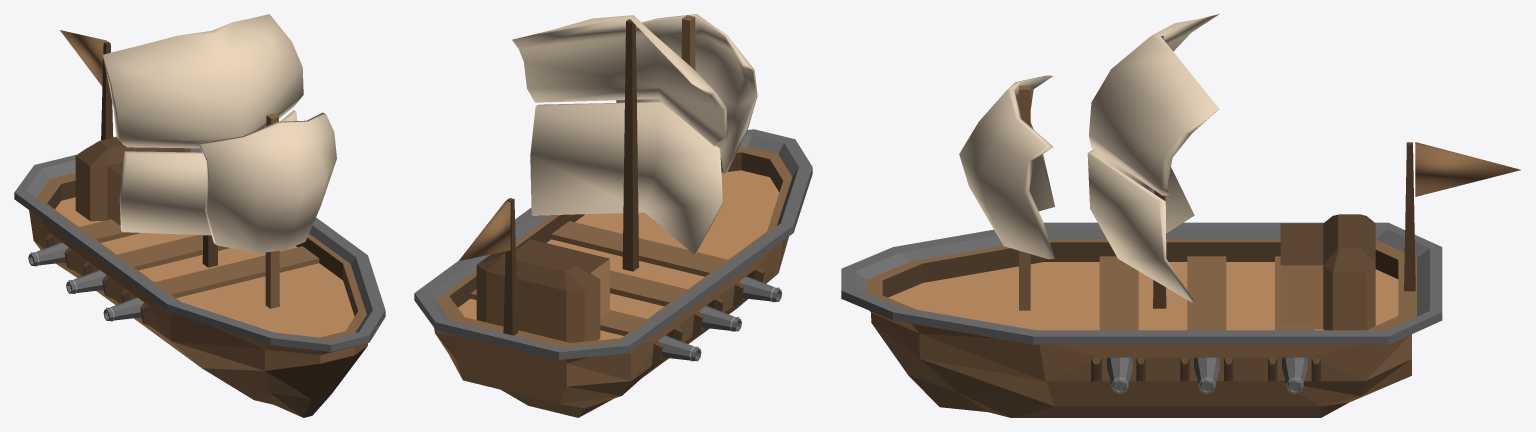
The model's file is Barco.fbx.
3 views of the same model, side by side, from view 1: azimuth 30°, elevation 25°; view 2: azimuth 150°, elevation 25°; view 3: azimuth 270°, elevation 25° (orthographic). The views are drawn at different scales.
Parts seen in each view (by area): view 1: Cañonero, Sails_1, Hull_1, Crew_1, cannon_2, cannon_1; view 2: Cañonero, Hull_1, Crew_1, Sails_1, cannon_2, cannon_1; view 3: Cañonero, Hull_1, Sails_1, Crew_1, cannon_2, cannon_1.
Boxes of the visible parts, x1,y1,x2,y2 form: Cañonero: (29, 14, 367, 417); Sails_1: (198, 112, 336, 308); Hull_1: (14, 148, 385, 351); Crew_1: (75, 137, 190, 225); cannon_2: (103, 288, 151, 326); cannon_1: (28, 233, 75, 270); Cañonero: (434, 15, 792, 417); Hull_1: (414, 129, 812, 359); Crew_1: (476, 239, 609, 319); Sails_1: (616, 14, 757, 173); cannon_2: (732, 266, 782, 306); cannon_1: (651, 326, 701, 365); Cañonero: (866, 14, 1520, 417); Hull_1: (841, 222, 1442, 344); Sails_1: (959, 75, 1054, 310); Crew_1: (1280, 214, 1375, 329); cannon_2: (1091, 357, 1145, 394); cannon_1: (1268, 357, 1320, 394).
Size of the model in its own units: 4045 by 4950 by 8288.
